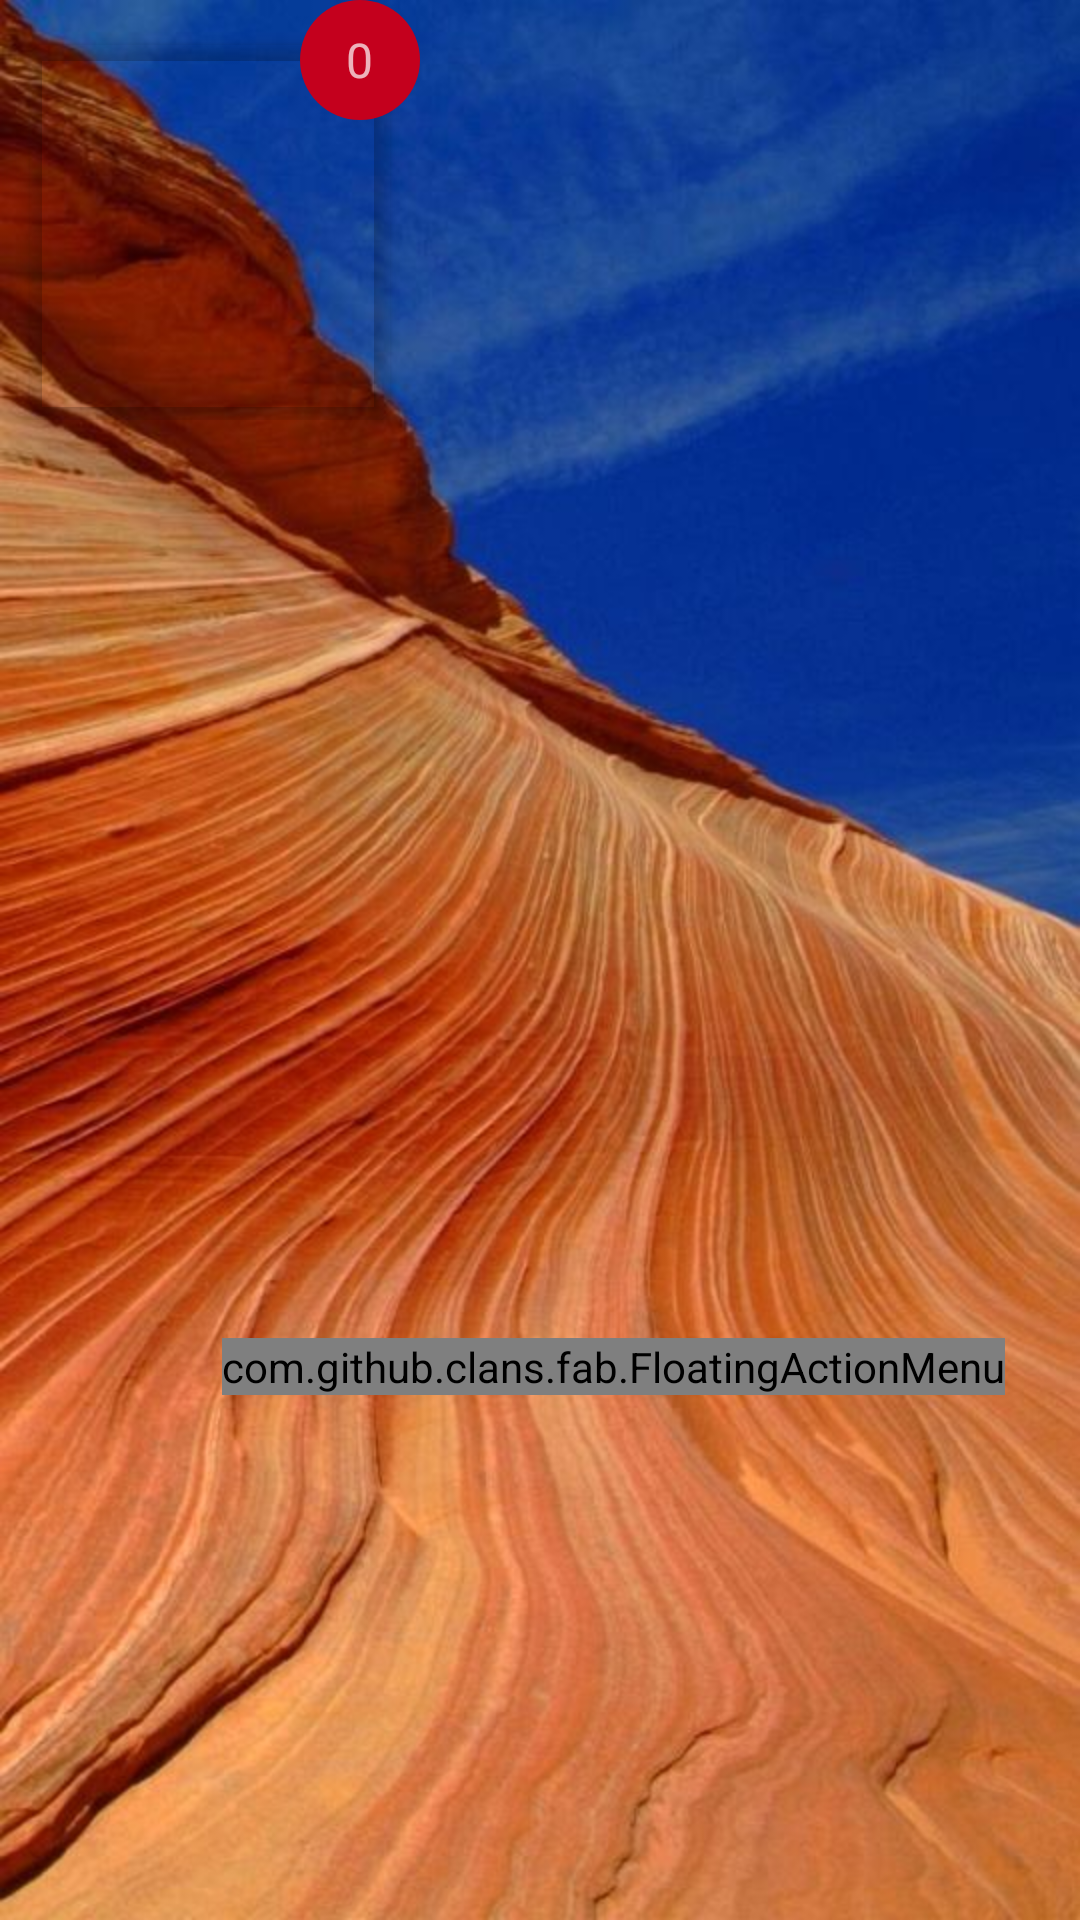

Where icons sit on this 1080 x 1920 app screen, as (x1, y1, x2, y2):
circle: (300, 0, 420, 120)
